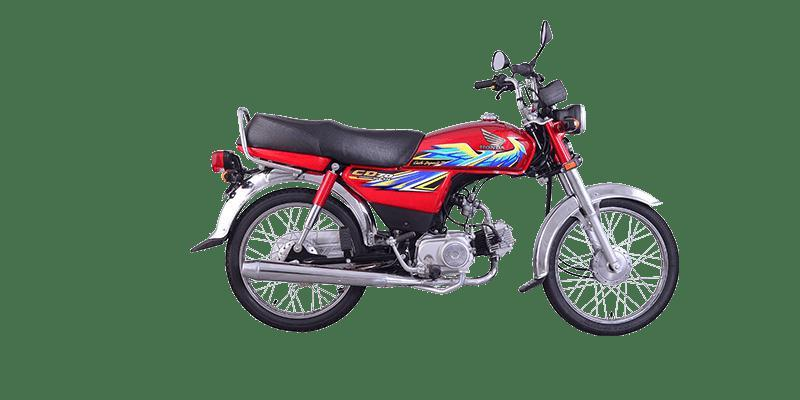bike: (189, 21, 678, 337)
